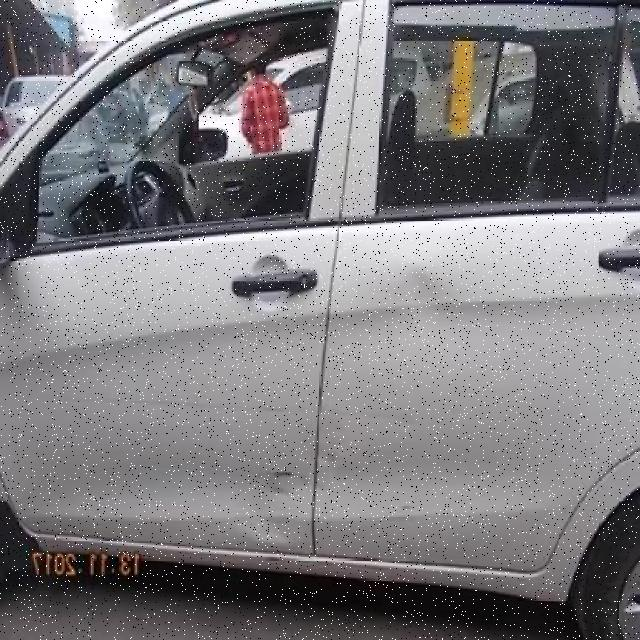damage: (34, 389, 414, 421), (393, 264, 444, 332), (229, 507, 291, 546), (255, 466, 323, 498), (317, 424, 345, 469), (388, 499, 414, 523)
